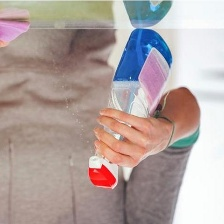cleaning_solution: (85, 20, 175, 193)
